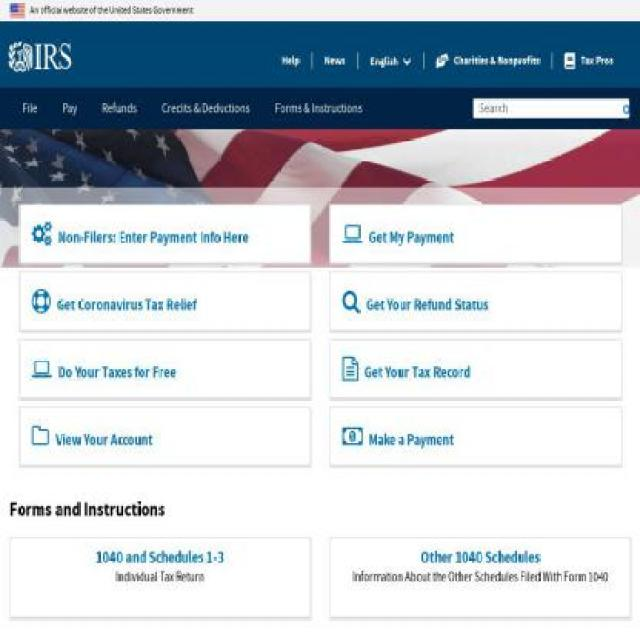button: (9, 538, 311, 618), (329, 538, 631, 618), (18, 204, 311, 264), (18, 272, 311, 332), (18, 338, 311, 398), (18, 406, 311, 466), (330, 204, 621, 264), (330, 272, 621, 332), (330, 338, 621, 398), (330, 406, 621, 466), (435, 45, 540, 77), (9, 42, 102, 72), (564, 45, 613, 77), (369, 46, 411, 79), (324, 45, 345, 77), (281, 45, 299, 77), (618, 99, 636, 121)
field: (473, 98, 630, 118)
